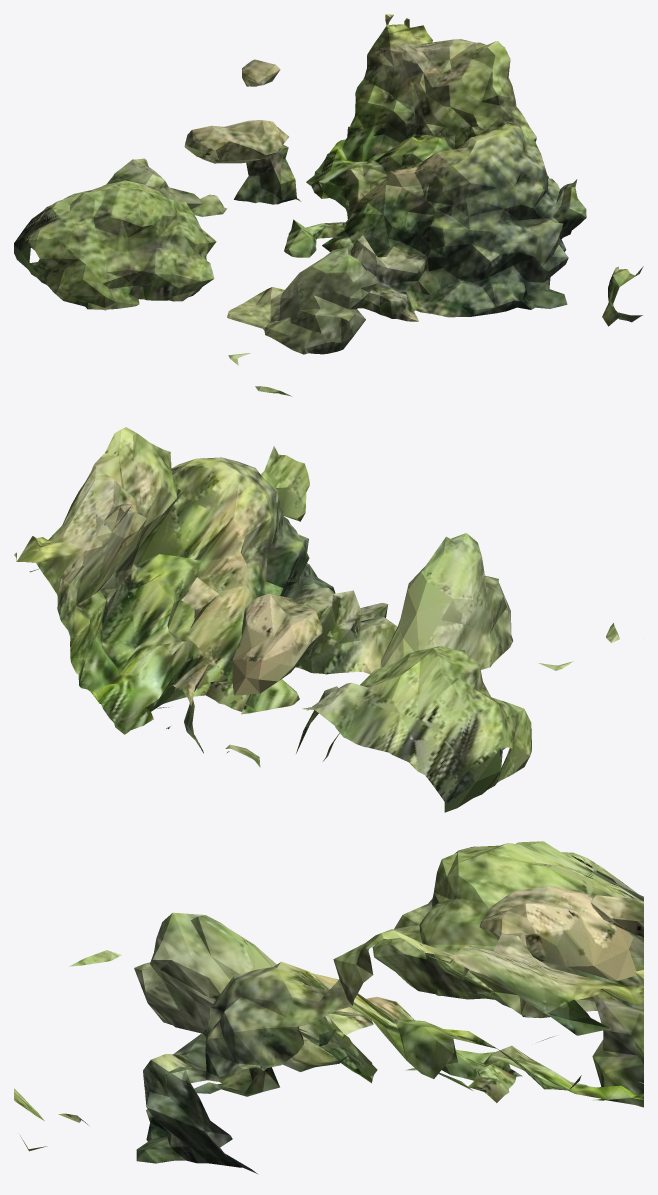
The picture shows the model from 3 angles, top to bottom: view 1: azimuth 30°, elevation 25°; view 2: azimuth 150°, elevation 25°; view 3: azimuth 270°, elevation 25°; orthographic projection. The views are drawn at different scales.
Size of the model in its own units: 26.11 by 11.32 by 26.11.
Materials: 3 (3 with a texture image).
